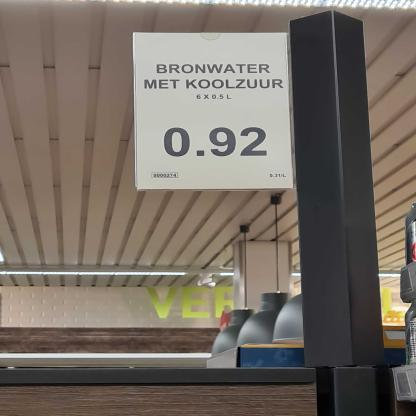prtg: (133, 32, 296, 190)
